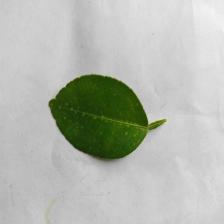greening: (59, 92, 150, 145)
